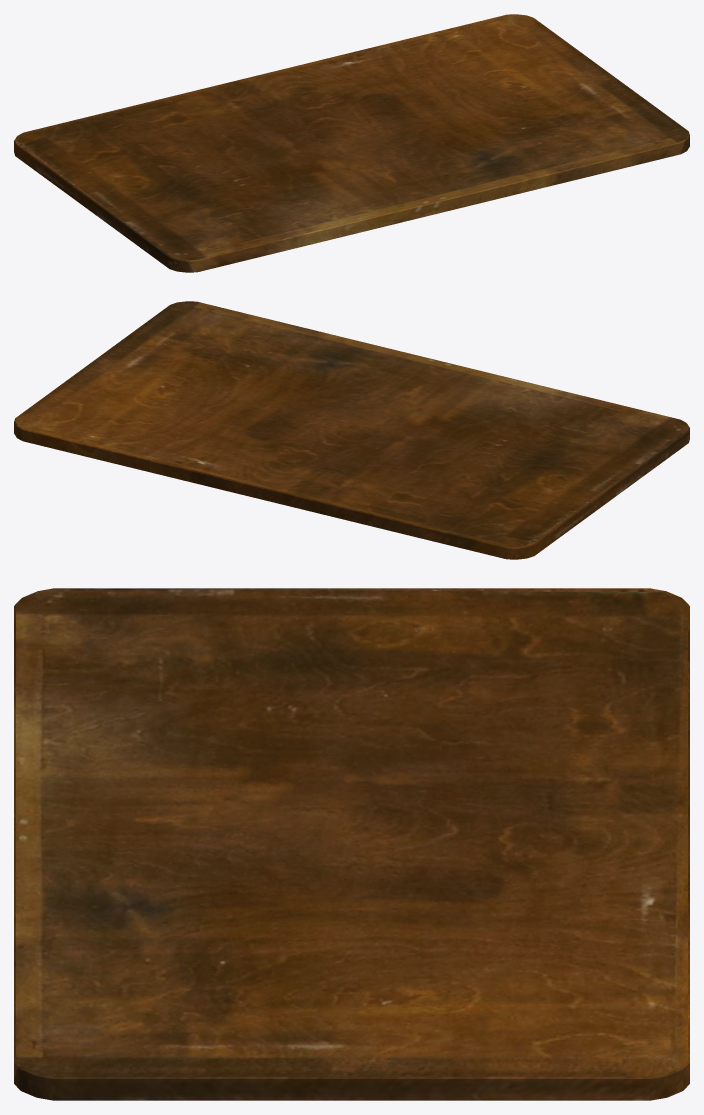
File: table_top.obj
The picture shows the model from 3 angles, top to bottom: view 1: azimuth 30°, elevation 25°; view 2: azimuth 150°, elevation 25°; view 3: azimuth 270°, elevation 25°; orthographic projection. The views are drawn at different scales.
Visible parts, largest first — view 1: Cube.019_Cube.025; view 2: Cube.019_Cube.025; view 3: Cube.019_Cube.025.
Part boxes in pixels (x1,y1,x2,y2): Cube.019_Cube.025: (14,14,689,272); Cube.019_Cube.025: (14,301,689,559); Cube.019_Cube.025: (14,588,689,1100).
Size of the model in its own units: 1.17 by 0.026 by 0.6827.
